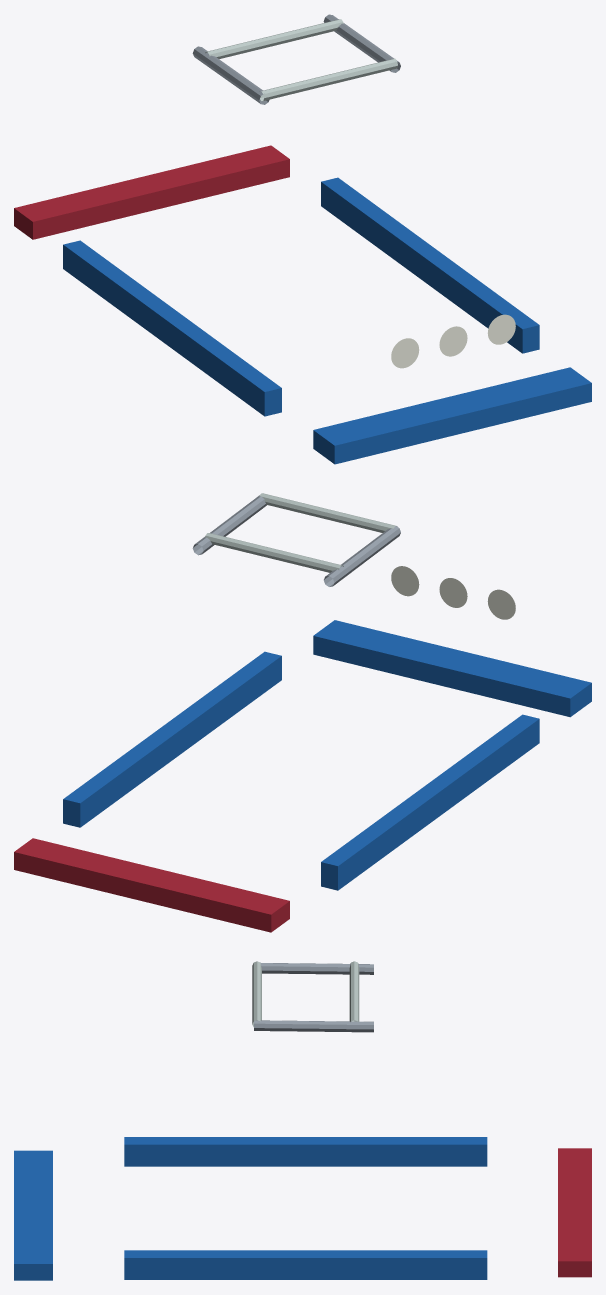
File: yellow_beetle_rally_dress.obj
3 views of the same model, one above another, from view 1: azimuth 30°, elevation 25°; view 2: azimuth 150°, elevation 25°; view 3: azimuth 270°, elevation 25° (orthographic). The views are drawn at different scales.
Visible parts, largest first — view 1: SIDE_SKIRT, RALLY_SPLITTER, REAR_BUMPER, RACK_CROSSBAR, AUX_LIGHTS, ROOF_RACK; view 2: SIDE_SKIRT, RALLY_SPLITTER, REAR_BUMPER, RACK_CROSSBAR, ROOF_RACK, AUX_LIGHTS; view 3: SIDE_SKIRT, RALLY_SPLITTER, REAR_BUMPER, ROOF_RACK, RACK_CROSSBAR.
Part boxes in pixels (left/top/right/bottom): SIDE_SKIRT: left=63, top=177, right=539, bottom=416; RALLY_SPLITTER: left=313, top=367, right=591, bottom=464; REAR_BUMPER: left=14, top=145, right=289, bottom=239; RACK_CROSSBAR: left=205, top=19, right=397, bottom=101; AUX_LIGHTS: left=391, top=314, right=515, bottom=368; ROOF_RACK: left=192, top=14, right=400, bottom=104; SIDE_SKIRT: left=63, top=651, right=539, bottom=890; RALLY_SPLITTER: left=313, top=620, right=591, bottom=717; REAR_BUMPER: left=14, top=838, right=289, bottom=932; RACK_CROSSBAR: left=205, top=493, right=397, bottom=572; ROOF_RACK: left=192, top=495, right=400, bottom=586; AUX_LIGHTS: left=391, top=566, right=515, bottom=619; SIDE_SKIRT: left=124, top=1137, right=487, bottom=1279; RALLY_SPLITTER: left=14, top=1150, right=52, bottom=1280; REAR_BUMPER: left=558, top=1148, right=591, bottom=1277; ROOF_RACK: left=254, top=963, right=373, bottom=1032; RACK_CROSSBAR: left=252, top=961, right=359, bottom=1027.
Size of the model in its own units: 1.76 by 1.59 by 3.56.
